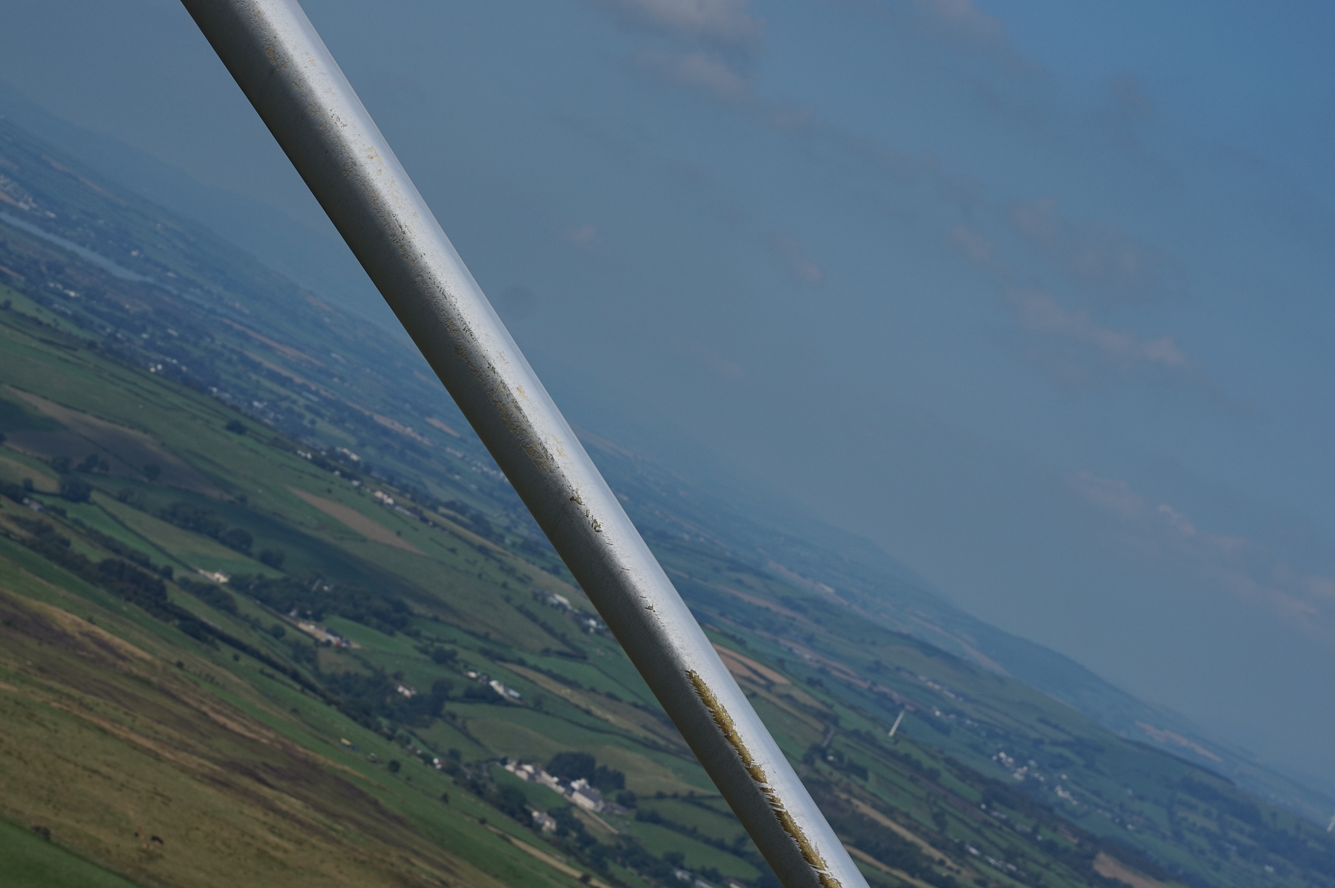Damage: (684, 667, 844, 886)
